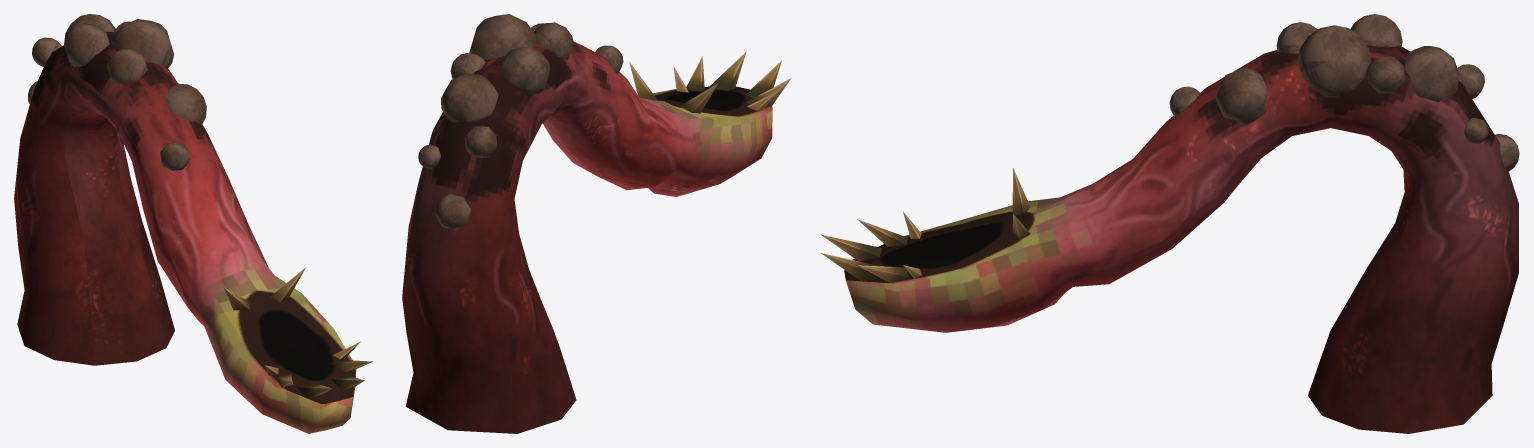
Rendered from tentacleMonster.fbx.
3 views of the same model, side by side, from view 1: azimuth 30°, elevation 25°; view 2: azimuth 150°, elevation 25°; view 3: azimuth 270°, elevation 25° (orthographic). The views are drawn at different scales.
Parts seen in each view (by area): view 1: GJ_Tentacle_Model_NOEYEBALL; view 2: GJ_Tentacle_Model_NOEYEBALL; view 3: GJ_Tentacle_Model_NOEYEBALL.
Part boxes in pixels (bbox=[...]): GJ_Tentacle_Model_NOEYEBALL: bbox=[14, 14, 373, 433]; GJ_Tentacle_Model_NOEYEBALL: bbox=[402, 14, 791, 433]; GJ_Tentacle_Model_NOEYEBALL: bbox=[821, 14, 1519, 433].
Size of the model in its own units: 210 by 484 by 810.
